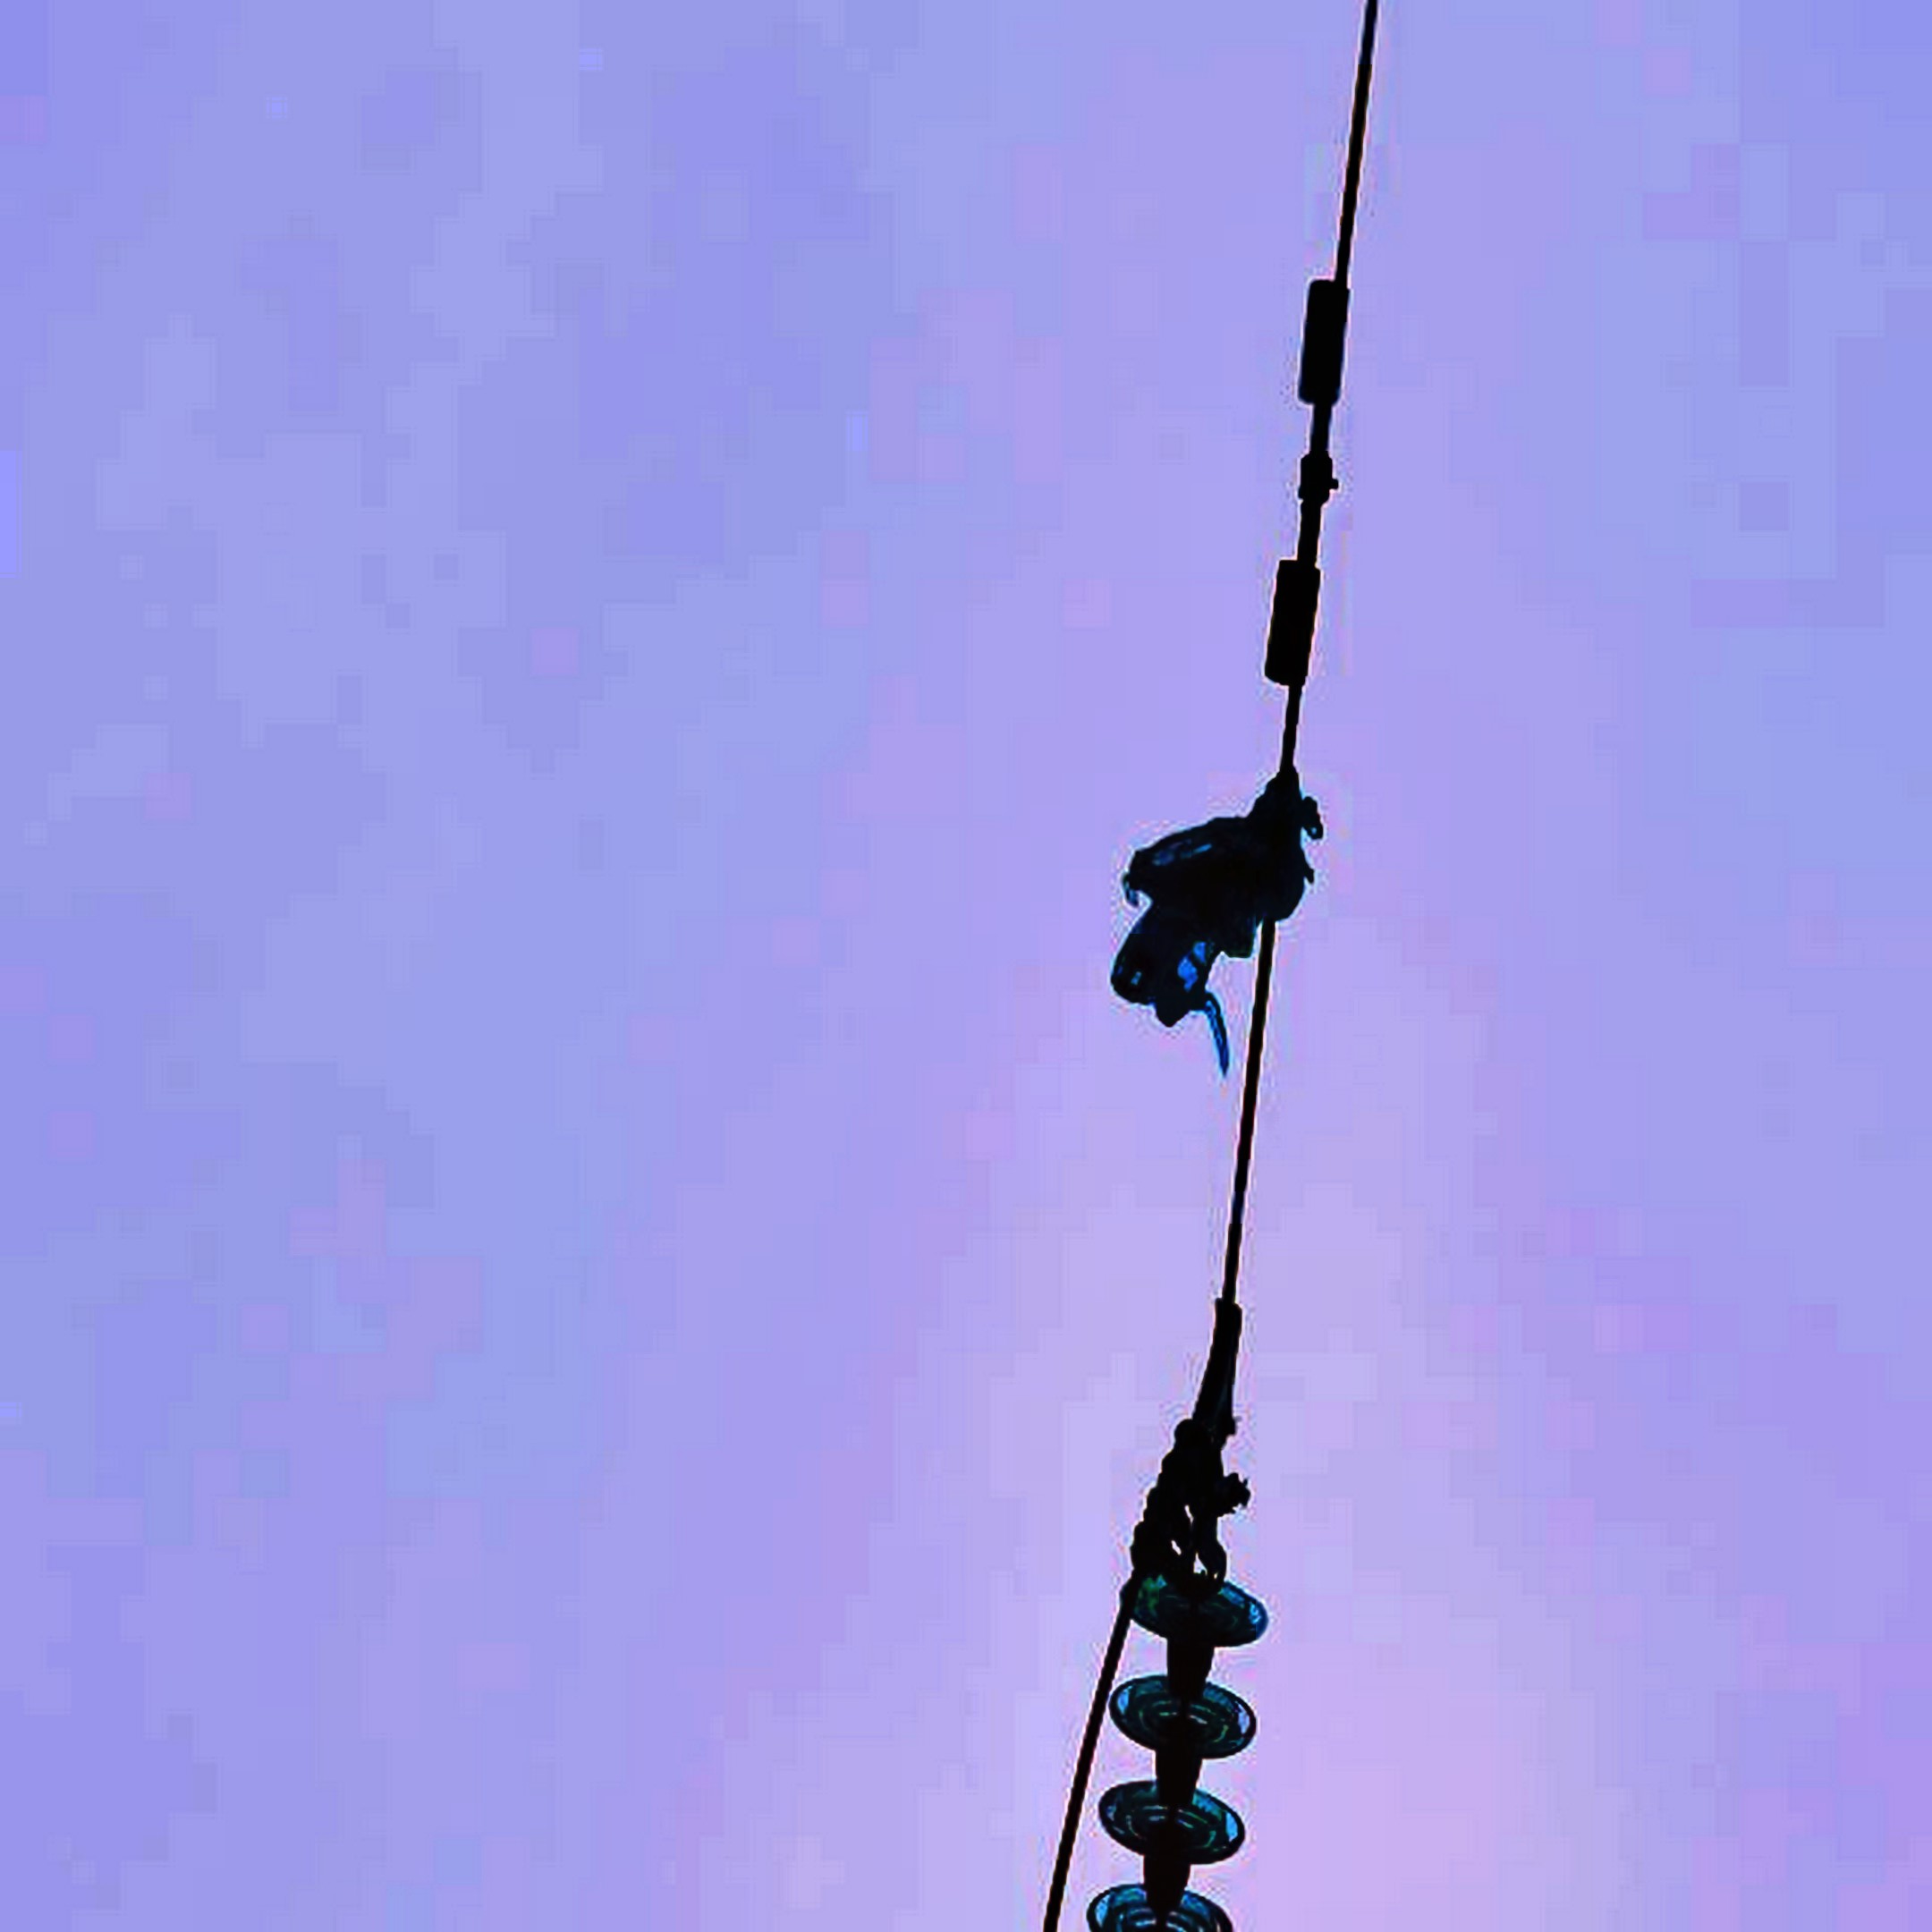wire foreign body: (1042, 748, 1389, 1079)
